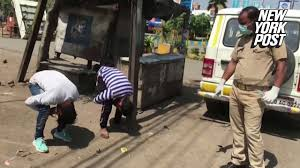mask: (233, 8, 258, 42)
